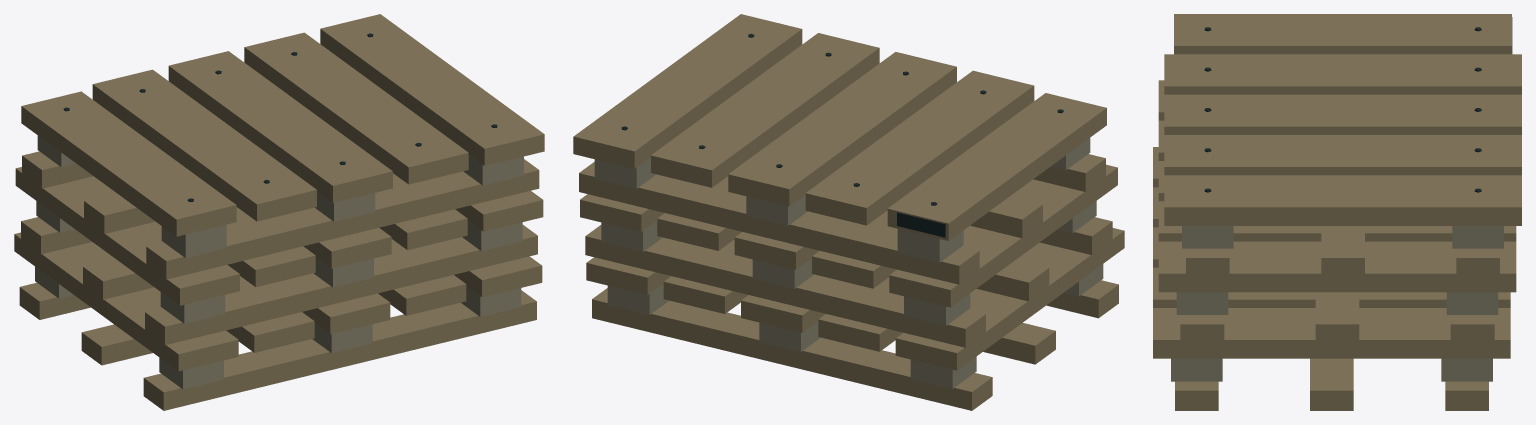
Rendered from lv119-worn-pallet-stack.glb.
3 renders of one model, left to right at view 1: azimuth 30°, elevation 25°; view 2: azimuth 150°, elevation 25°; view 3: azimuth 270°, elevation 25°, orthographic. The views are drawn at different scales.
Visible parts, largest first — view 1: worn-pallet-stack; view 2: worn-pallet-stack; view 3: worn-pallet-stack.
Part boxes in pixels (<box>): worn-pallet-stack: <box>14,14,544,410</box>; worn-pallet-stack: <box>573,14,1124,410</box>; worn-pallet-stack: <box>1153,14,1521,410</box>.
Bounding box in the file's own units: 1.2 × 0.574 × 0.928.
